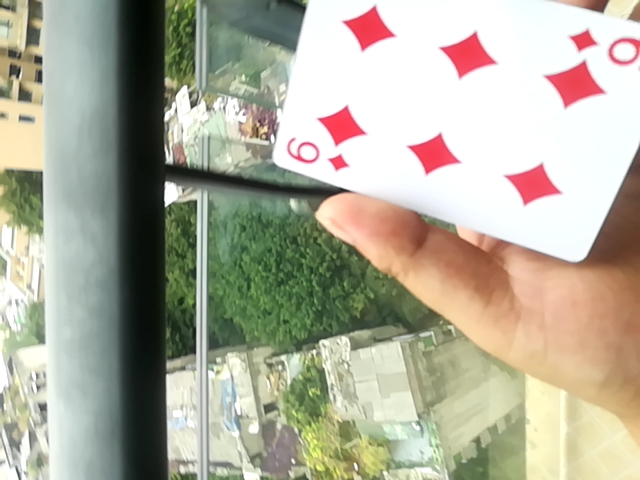fk 6: (267, 1, 640, 271)
